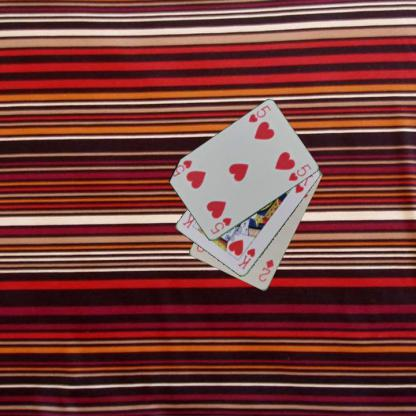2d: (256, 257, 275, 283)
5h: (207, 215, 233, 236), (246, 103, 272, 124)
Kh: (235, 246, 257, 271)
